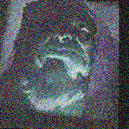Yorick: (1, 1, 119, 127)
